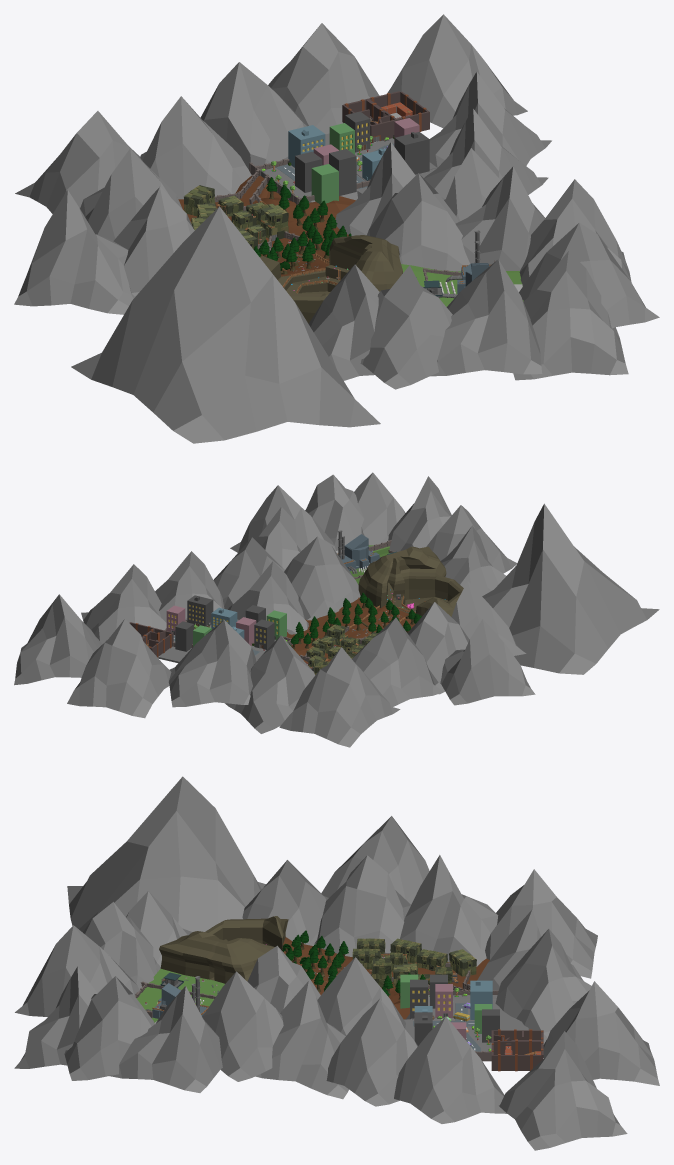
Rendered from ALLLevels4.fbx.
The picture shows the model from 3 angles, top to bottom: view 1: azimuth 30°, elevation 25°; view 2: azimuth 150°, elevation 25°; view 3: azimuth 270°, elevation 25°; orthographic projection. The views are drawn at different scales.
Parts seen in each view (by area): view 1: vuoret, Lattia.002, Talo2, Cube.004, Puut.001, Talo, Tutorial Seinät; view 2: vuoret, Lattia.002, Talo2, Puut.001, Cube.004, Talo, Tutorial Seinät; view 3: vuoret, Lattia.002, Cube.004, Talo2, Puut.001, Tutorial Seinät, Talo.
Boxes of the visible parts, box(x1,y1,x2,y2) form: vuoret: box(14, 14, 659, 443); Lattia.002: box(178, 133, 523, 323); Talo2: box(295, 111, 419, 204); Cube.004: box(184, 185, 288, 248); Puut.001: box(253, 177, 351, 274); Talo: box(288, 125, 429, 180); Tutorial Seinät: box(342, 91, 429, 143); vuoret: box(14, 472, 659, 747); Lattia.002: box(158, 545, 463, 665); Talo2: box(166, 605, 286, 651); Puut.001: box(287, 592, 420, 649); Cube.004: box(306, 624, 377, 674); Talo: box(187, 595, 244, 638); Tutorial Seinät: box(129, 622, 173, 656); vuoret: box(14, 776, 659, 1150); Lattia.002: box(136, 916, 528, 1051); Cube.004: box(352, 938, 476, 987); Talo2: box(400, 974, 499, 1042); Puut.001: box(285, 930, 425, 999); Tutorial Seinät: box(491, 1030, 543, 1070); Talo: box(414, 980, 492, 1045).
Bounding box in the file's own units: 548 × 175 × 567.
